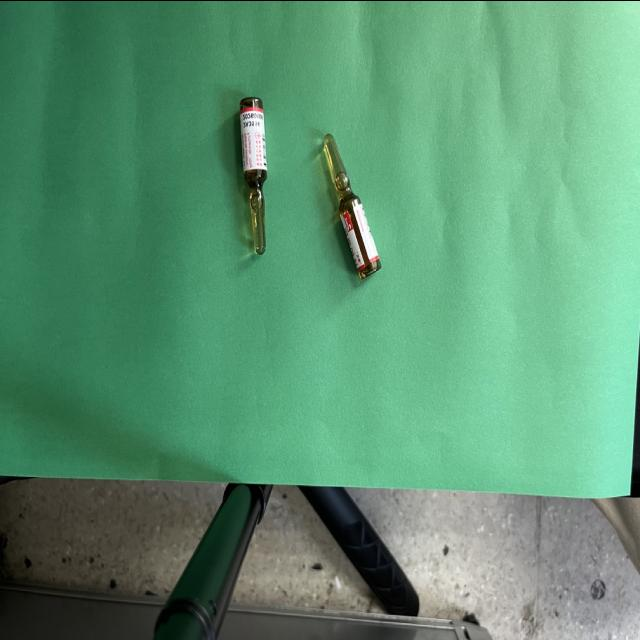Ampoules: (323, 134, 380, 279), (240, 97, 267, 253)
